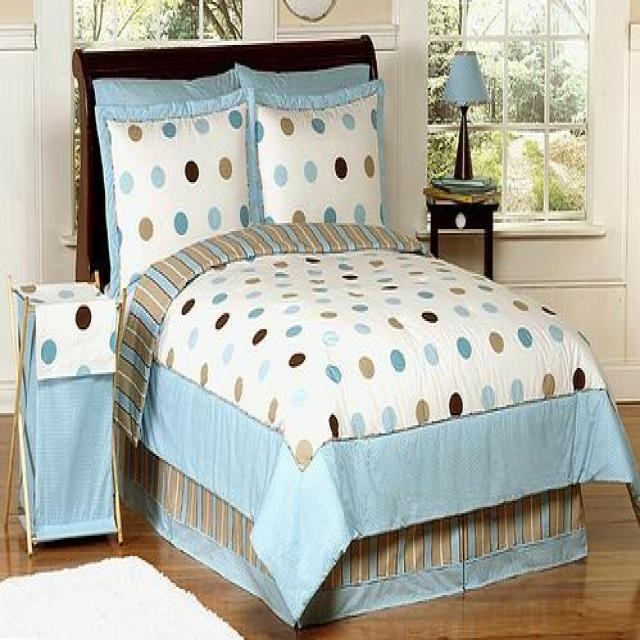bed: (71, 33, 638, 634)
table: (422, 184, 500, 280)
